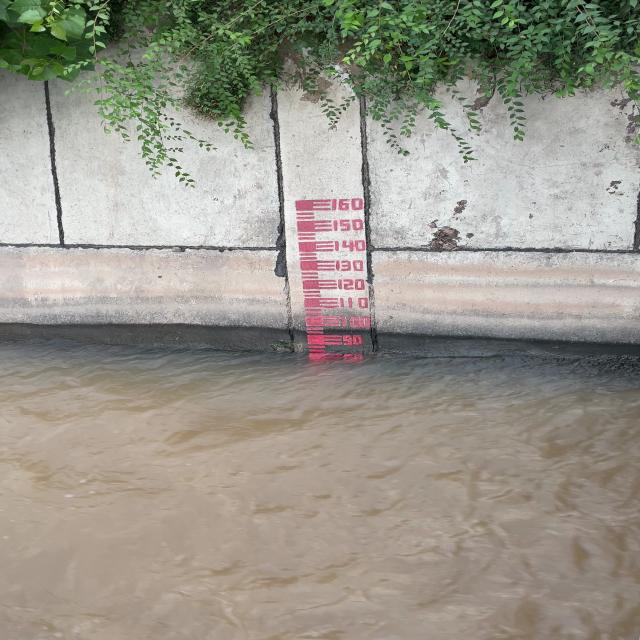ruler: (290, 193, 379, 356)
value: (328, 196, 368, 214), (330, 239, 370, 254), (330, 218, 370, 233), (338, 315, 374, 329), (332, 260, 368, 274), (338, 296, 370, 310), (336, 279, 370, 292), (341, 334, 365, 347)
